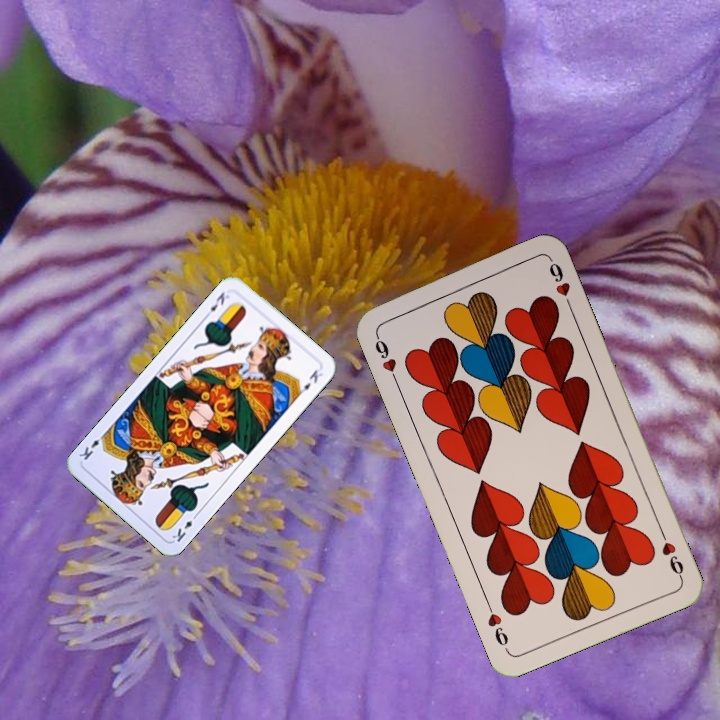EK: (168, 509, 201, 545), (201, 288, 232, 321)
H9: (656, 525, 686, 582), (370, 328, 400, 385)
